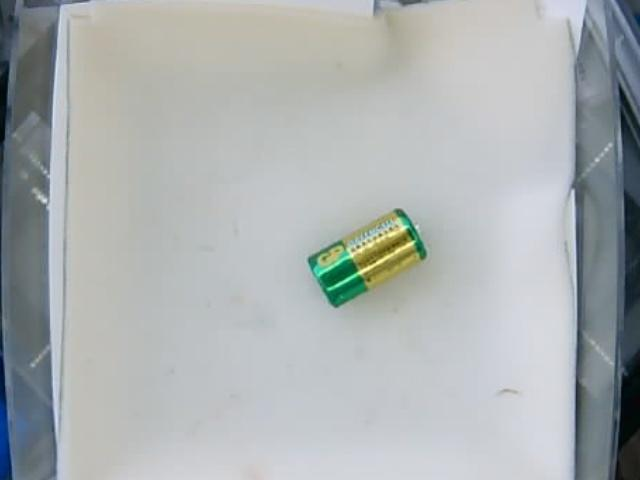Battery: (308, 207, 427, 306)
